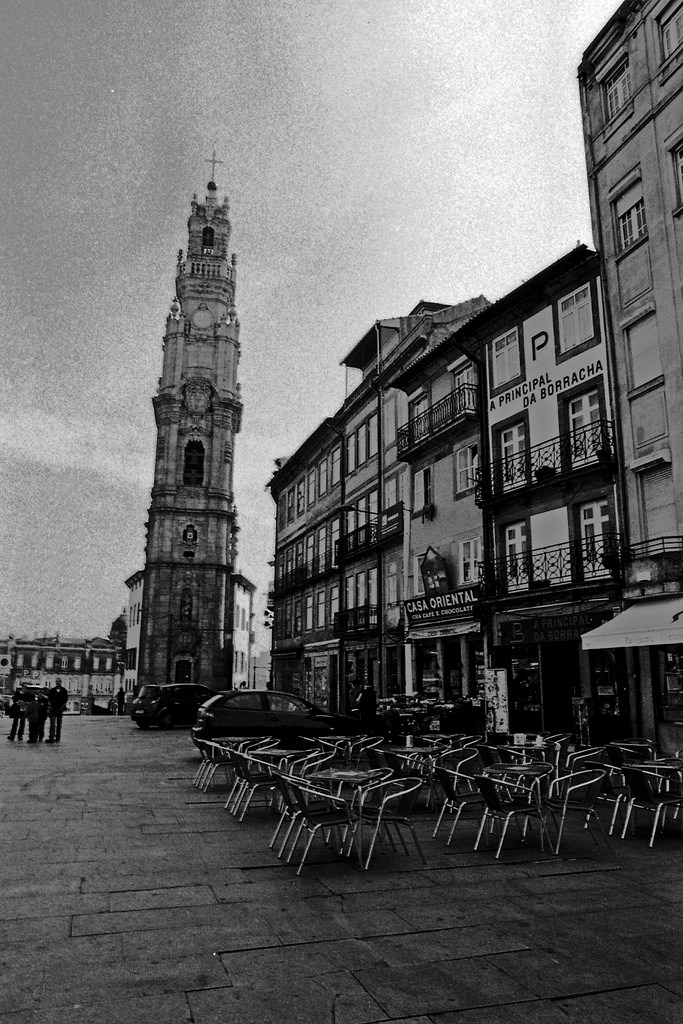clerigos: (133, 150, 245, 702)
